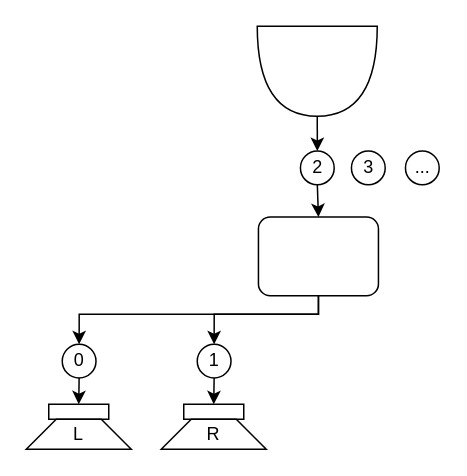
Some shapes in this 467 by 476 pixel diagram are drawn without their labels. Here are the shapes that lost their labels. From the top down, the centre of each, then its label:
At (x=316, y=70): "Source busOut 2".
At (x=317, y=256): "busIn 2 Filter busOut 0".
